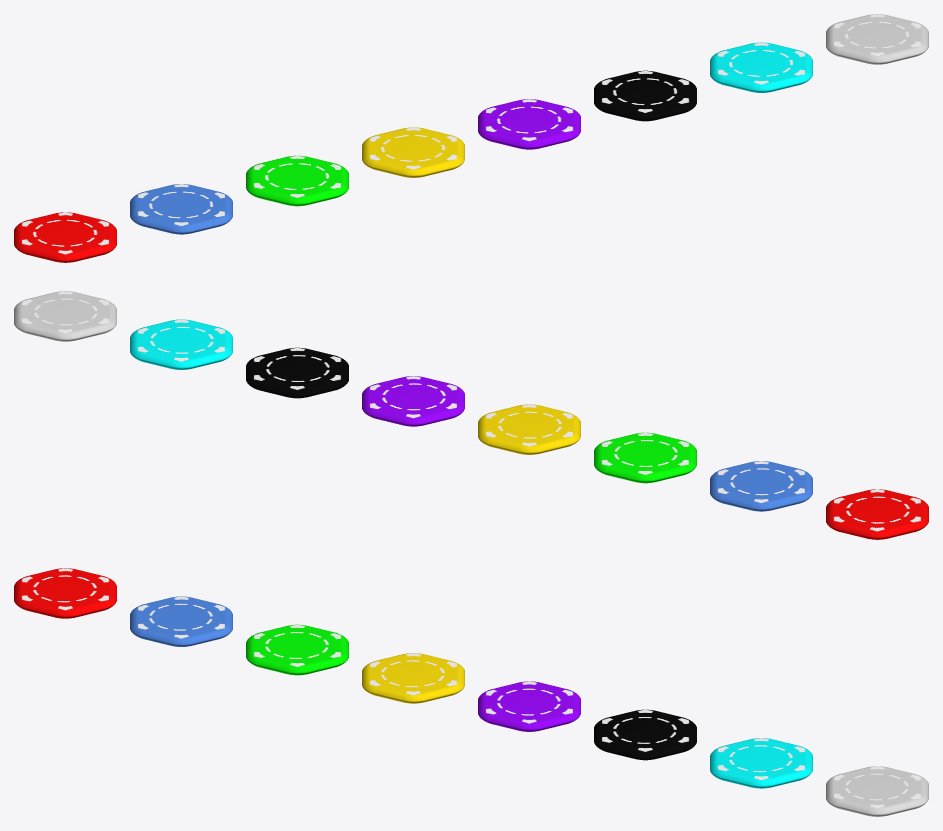
Rendered from Hex_Chip_04.fbx.
3 views of the same model, one above another, from view 1: azimuth 30°, elevation 25°; view 2: azimuth 150°, elevation 25°; view 3: azimuth 330°, elevation 25° (orthographic).
Visible parts, largest first — view 1: Hex_Chip; view 2: Hex_Chip; view 3: Hex_Chip.
Boxes of the visible parts, box(x1,y1,x2,y2) form: Hex_Chip: box(14, 14, 928, 262); Hex_Chip: box(14, 291, 928, 539); Hex_Chip: box(14, 568, 928, 816).
Bounding box in the file's own units: 39.16 × 0.367 × 3.85.
8 materials, 8 textured.
